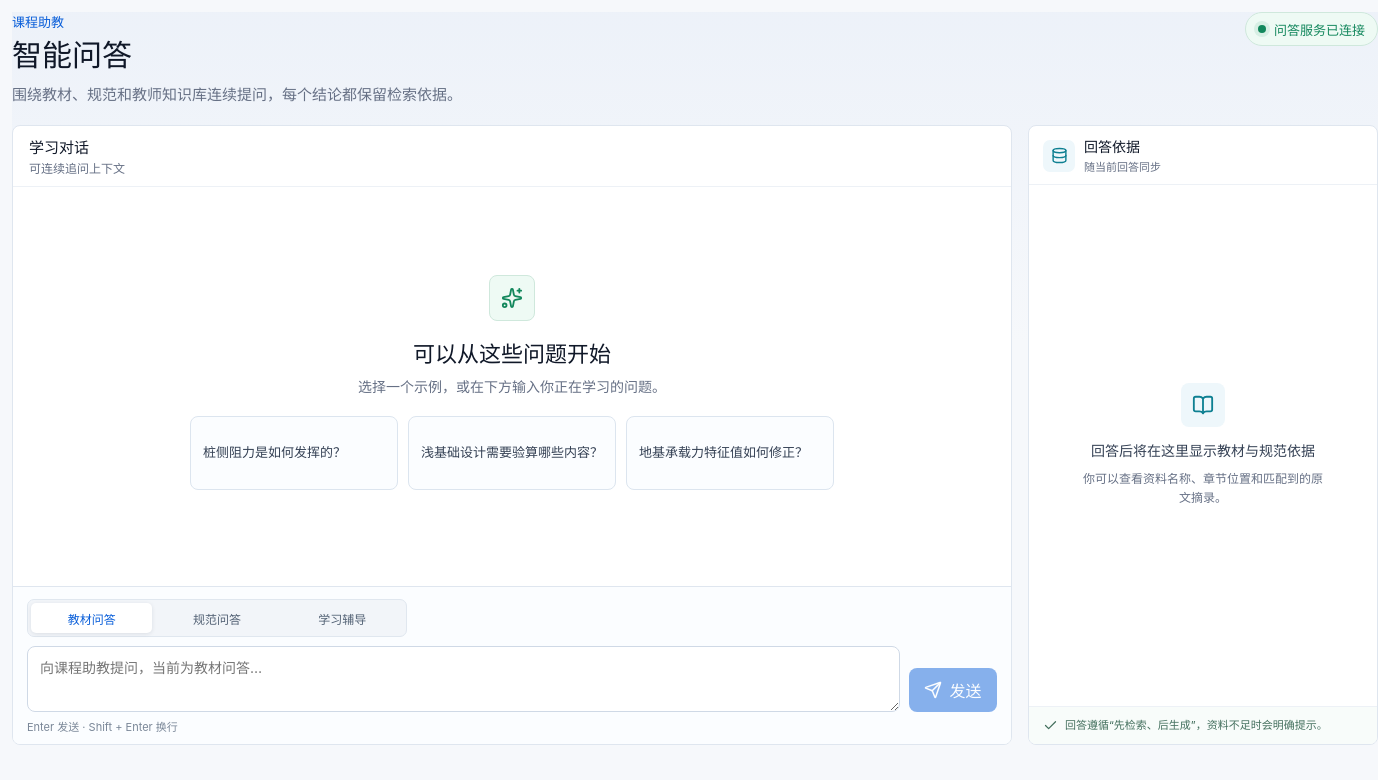
Test: QAWorkbench › uses Enter to send and Shift Enter to keep editing
Type "解释桩侧阻力" into the text box named "输入问题".
click(464, 679); type("解释桩侧阻力")  # box 27,646 -> 900,712
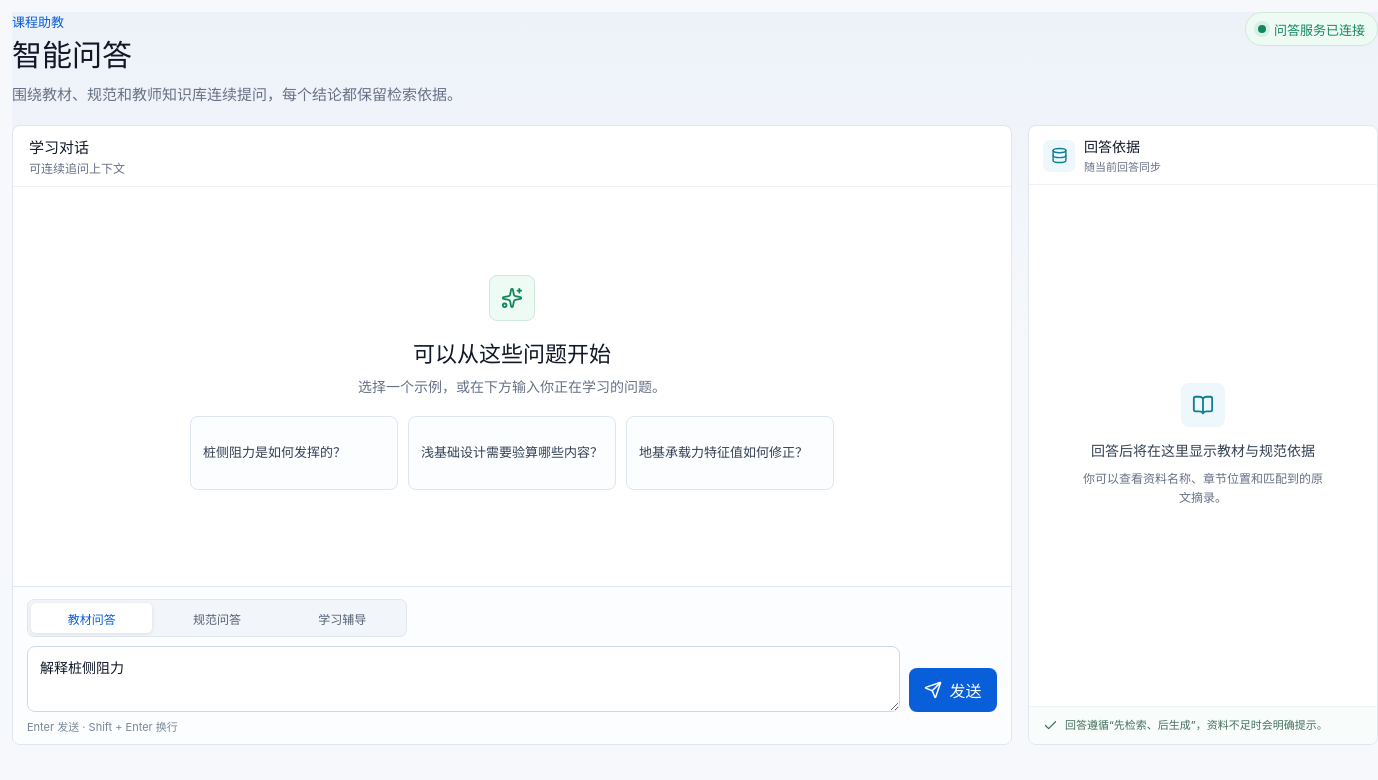
Press Enter in the text box named "输入问题", box 27,646 -> 900,712
Press Enter in the text box named "输入问题", box 27,646 -> 900,712
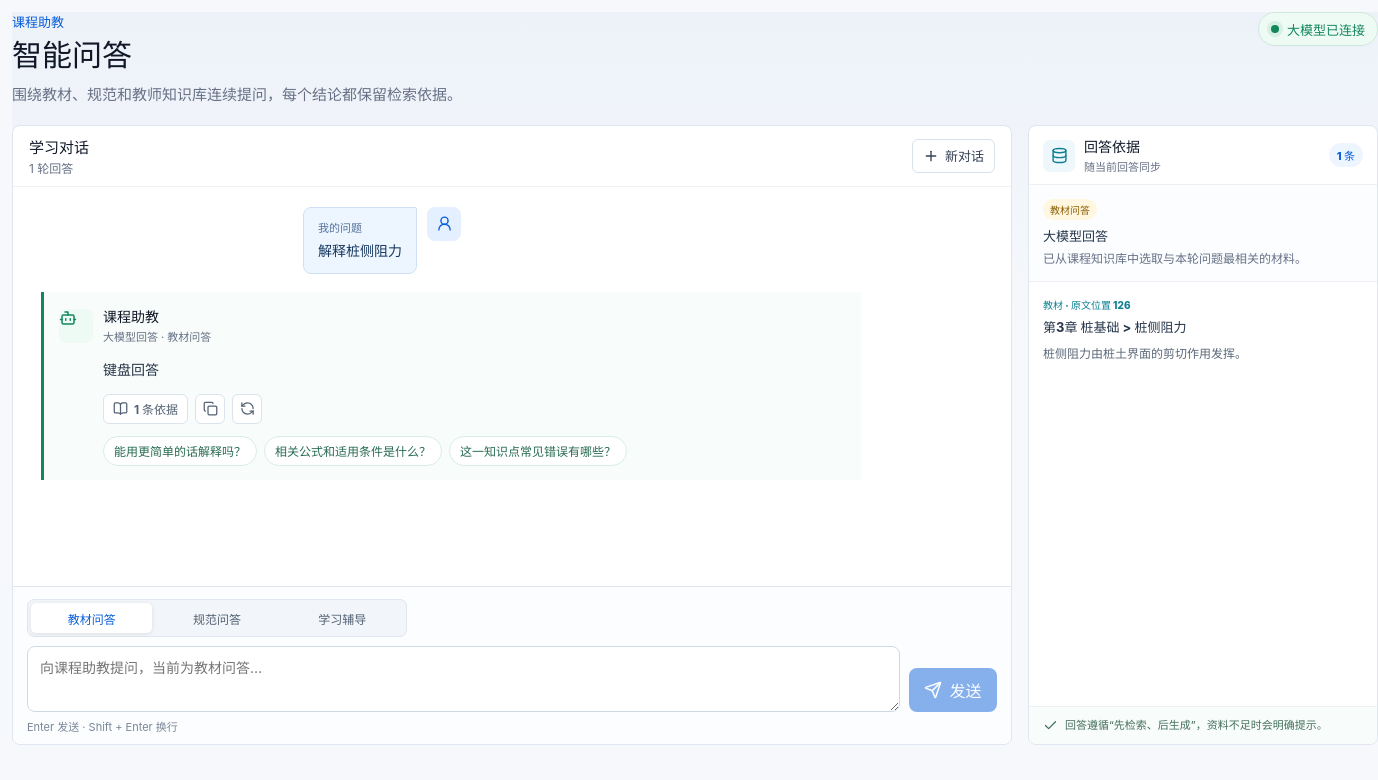
Expected: the text "键盘回答" is shown, 103,361 -> 159,378
